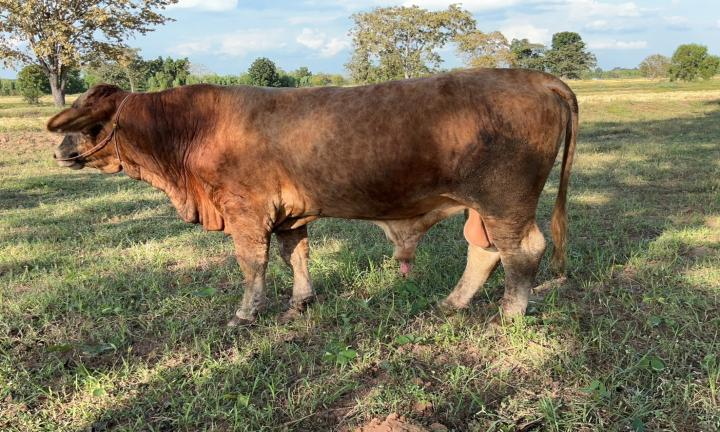Charolais: (46, 68, 578, 325)
